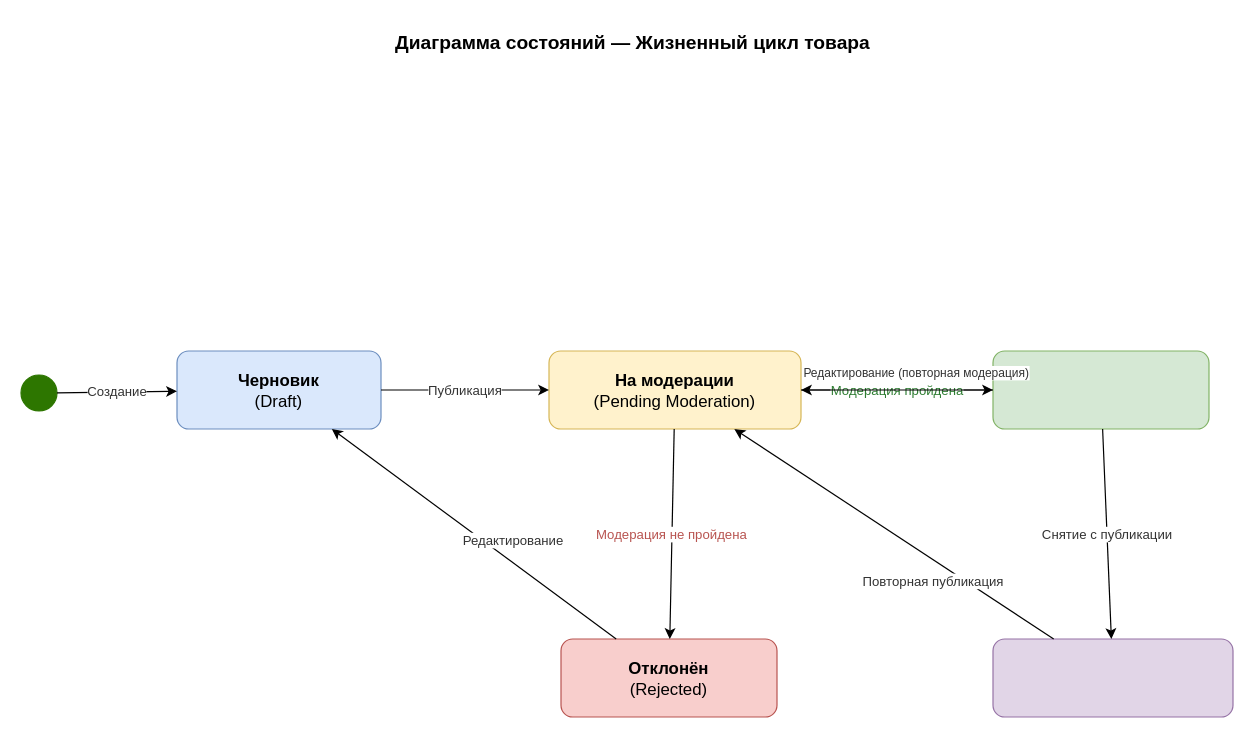
This 1254x738 diagram has some shape labels left out. The shapes that lost their labels are listed below. From the top down, each one's centre as x and y in pixels, then its label:
the point at 1100,389: Опубликован (Published)
the point at 1112,677: Снят с публикации (Unpublished)
